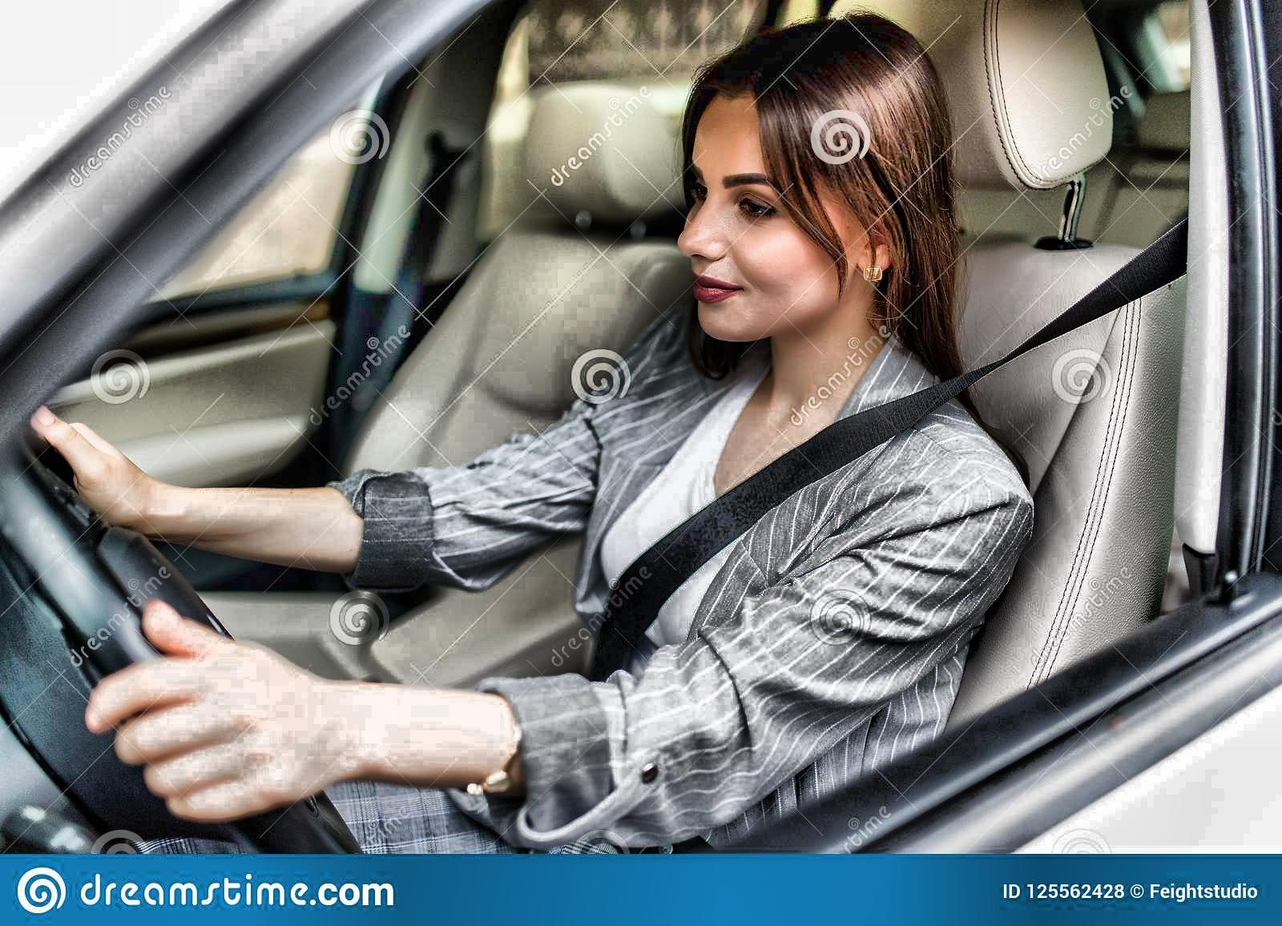seatbelt: (542, 203, 1203, 683), (343, 128, 497, 394)
